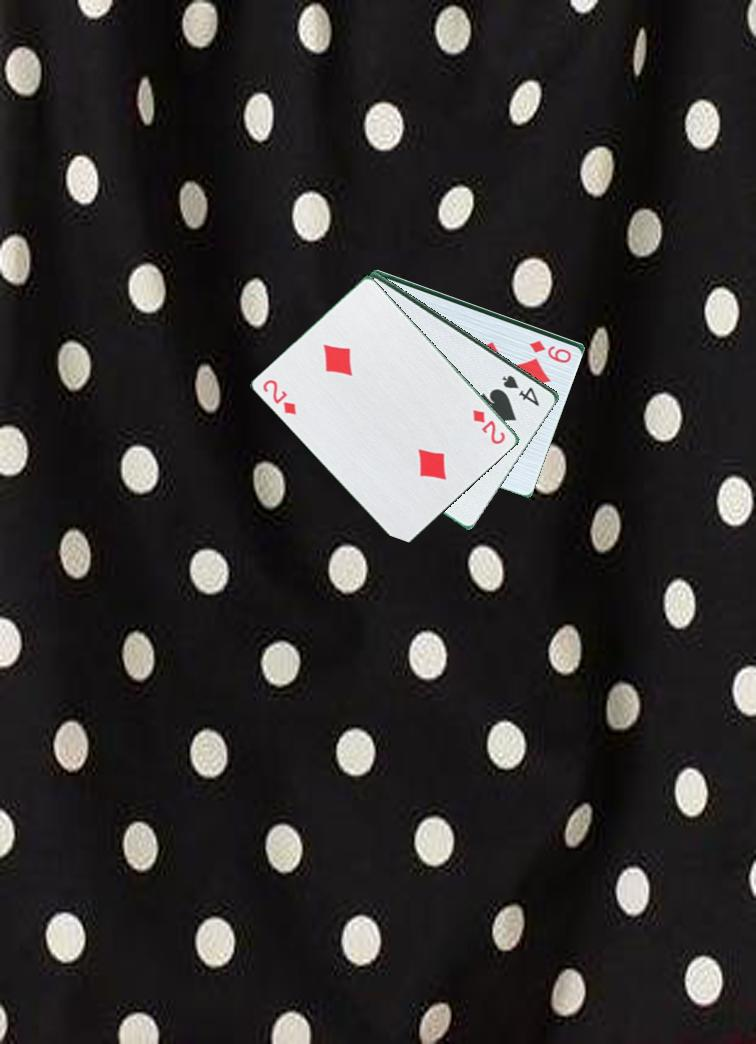2d: (469, 406, 513, 453), (259, 376, 300, 418)
4s: (499, 371, 543, 409)
9d: (526, 336, 575, 365)
